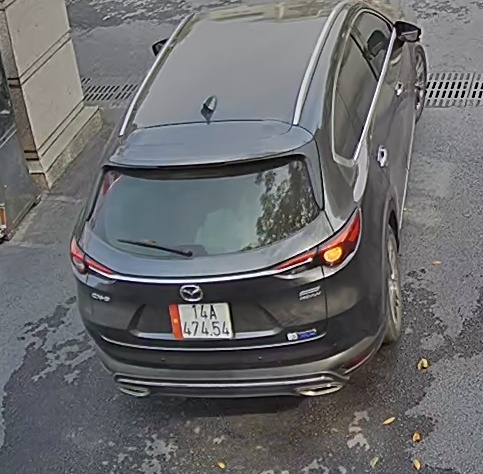vehicle plate: (165, 299, 240, 346)
